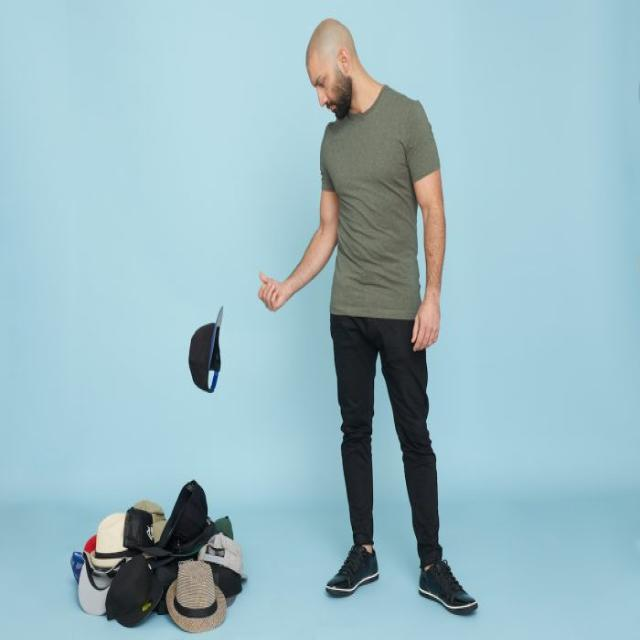head: (306, 17, 361, 117)
